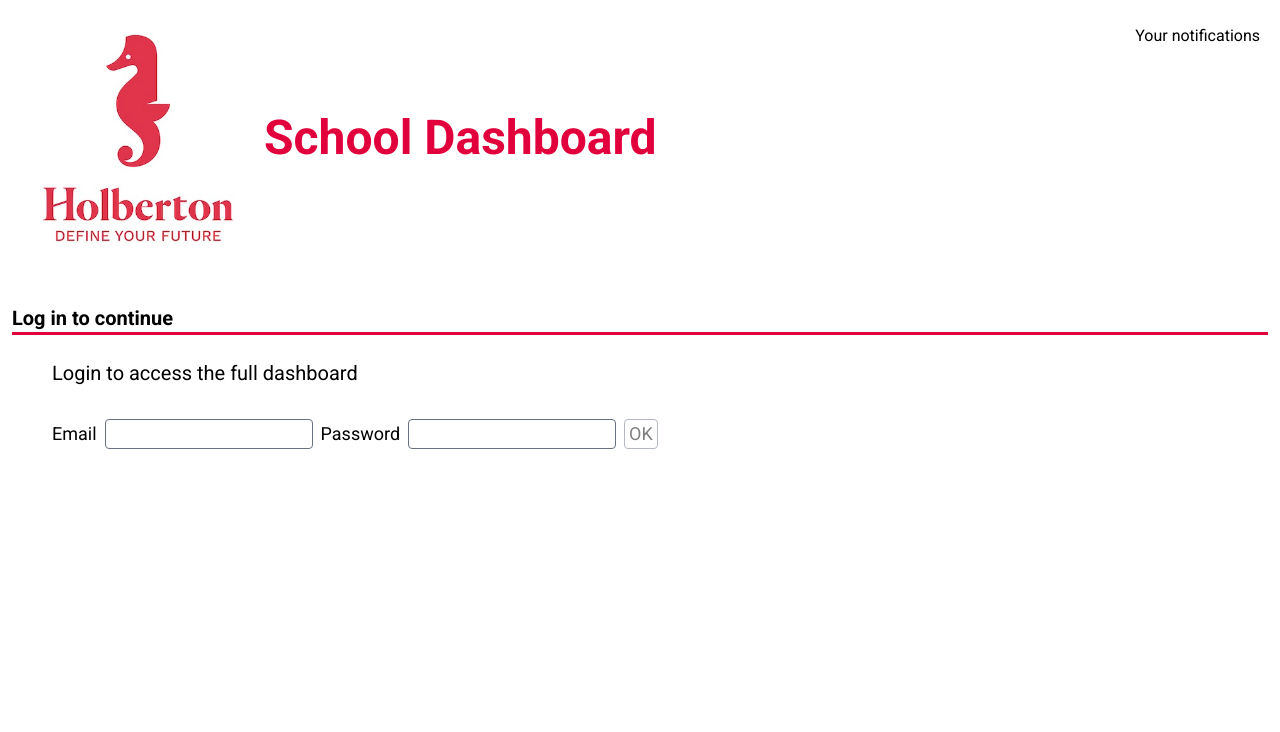
Test case: App › renders a CourseList table and unmounts Login after logging in
The width and height of the screenshot is (1280, 732).
Type "test@example.com" into the field labelled "Email".
click(209, 434); type("test@example.com")  # box [105,419,313,449]
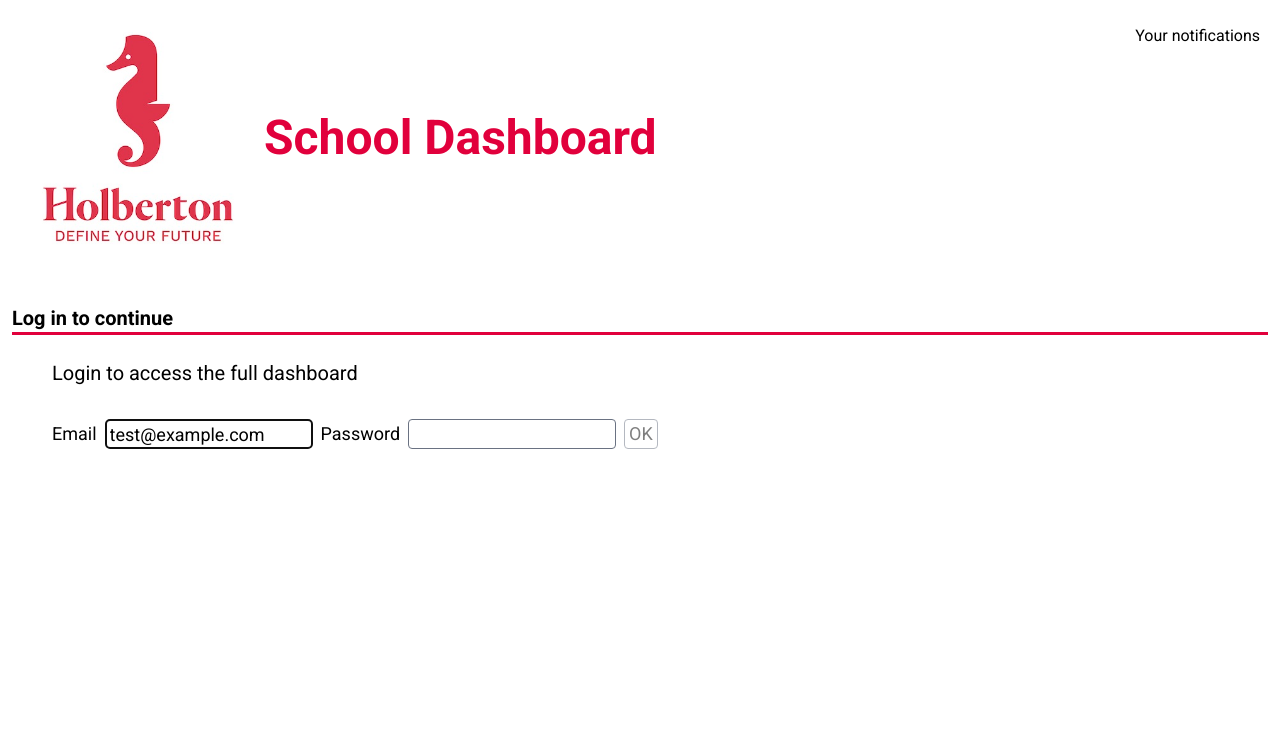
Type "password123" into the password field labelled "Password".
click(512, 434); type("password123")  # box [408,419,616,449]
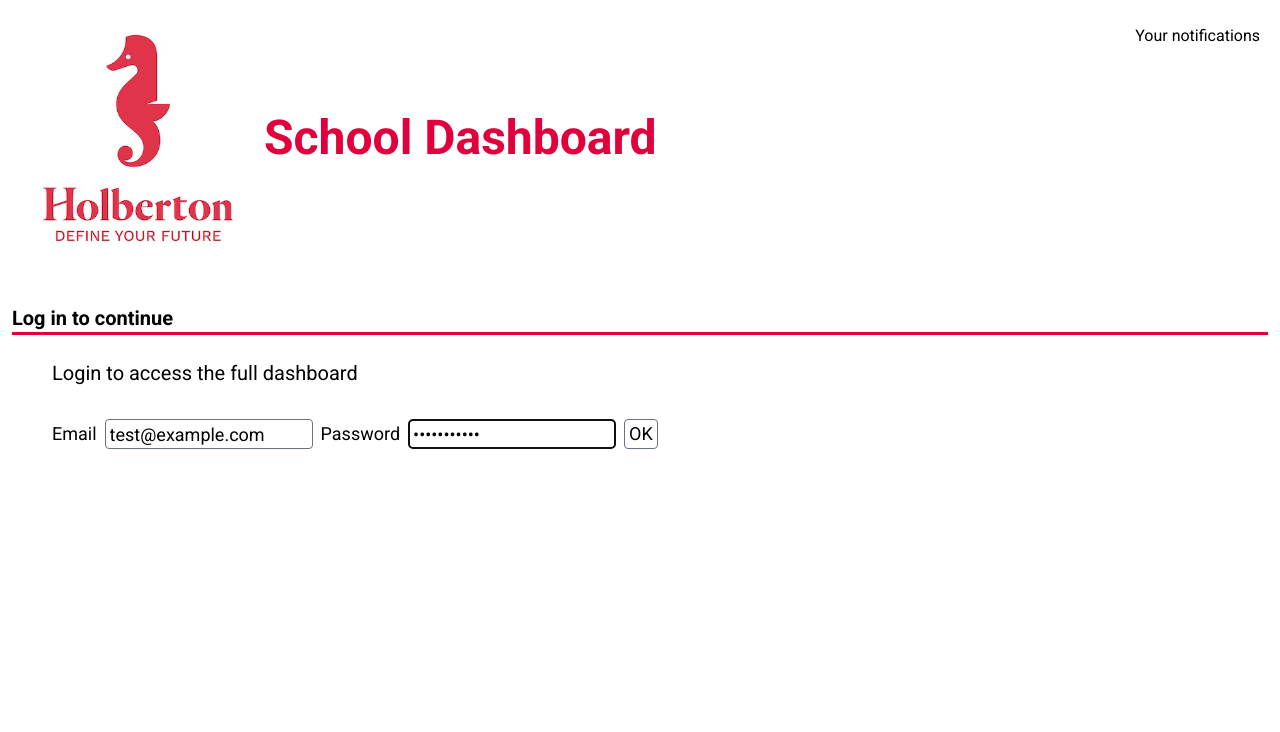
Click the button "OK".
click(641, 434)  # box [624,419,658,449]
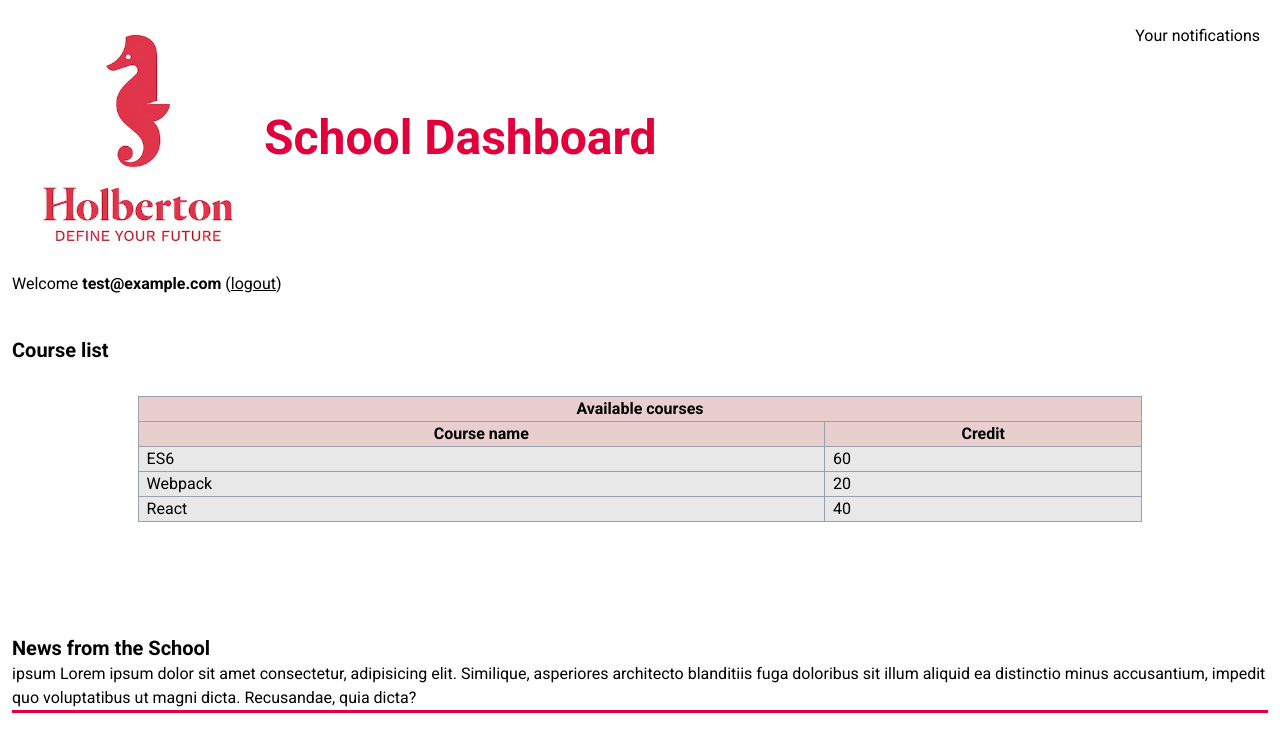
Result: the table with id "CourseList" is shown at [138,396,1142,522]
Result: the text "Login to access the full dashboard" is gone
